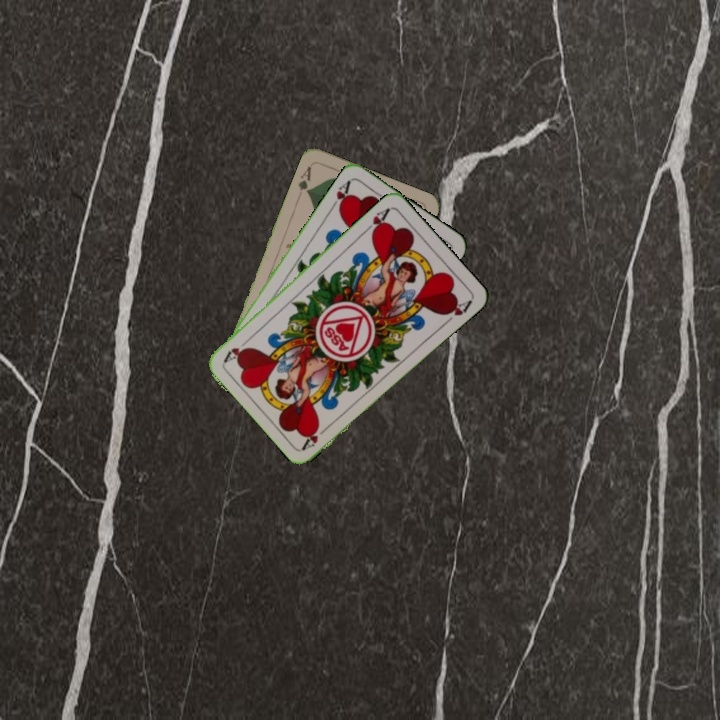GA: (294, 162, 314, 196)
HA: (359, 204, 393, 237), (298, 420, 333, 452), (327, 176, 353, 214)
